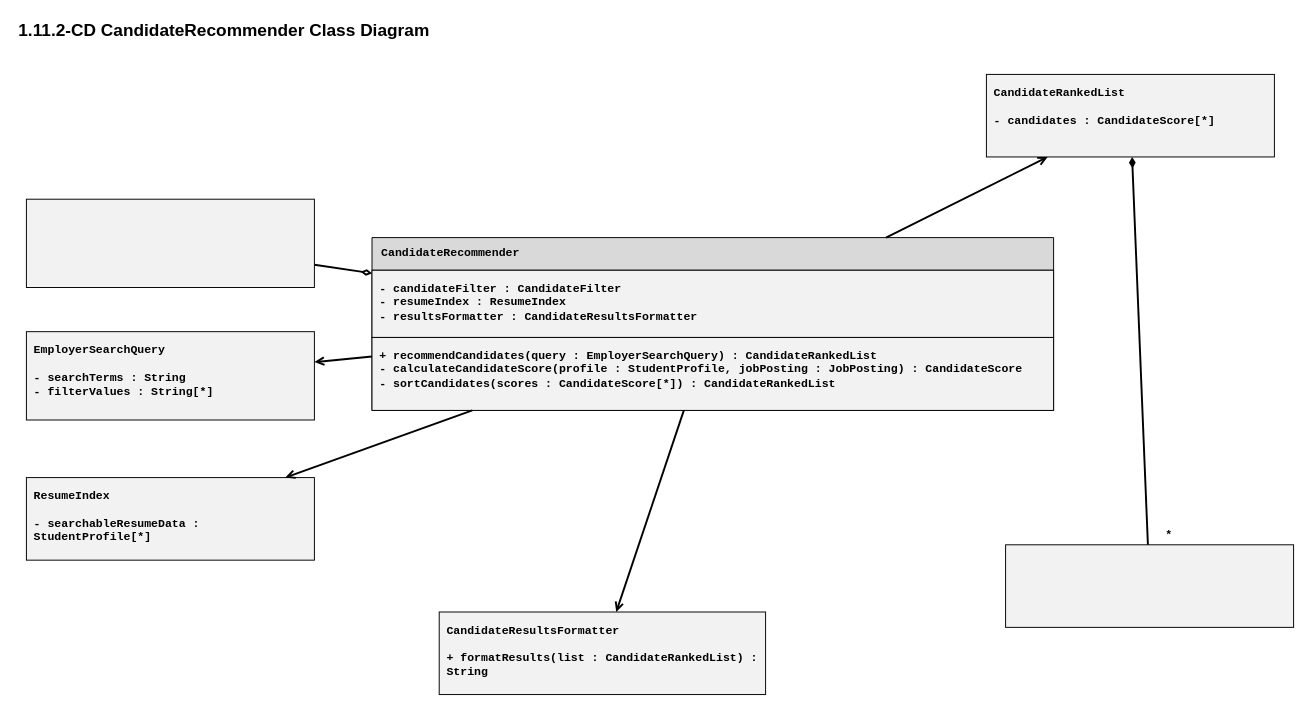
The diagram is 1310 pixels wide and 711 high, and some of its shapes have lost their labels. Each missing label, with the centre of its shape:
"CandidateFilter + applyCandidateFilters(index : ResumeIndex) : StudentProfile[*]" goes at pixel 169 243.
"CandidateScore - rankingValue : Number" goes at pixel 1149 585.
